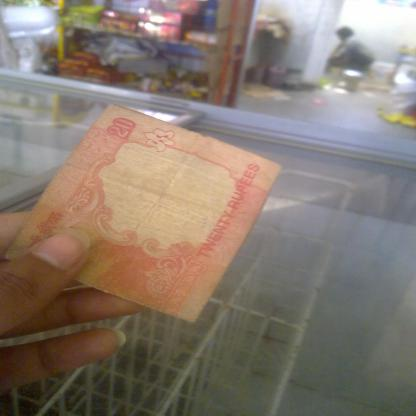Old20Back: (34, 103, 272, 310)
